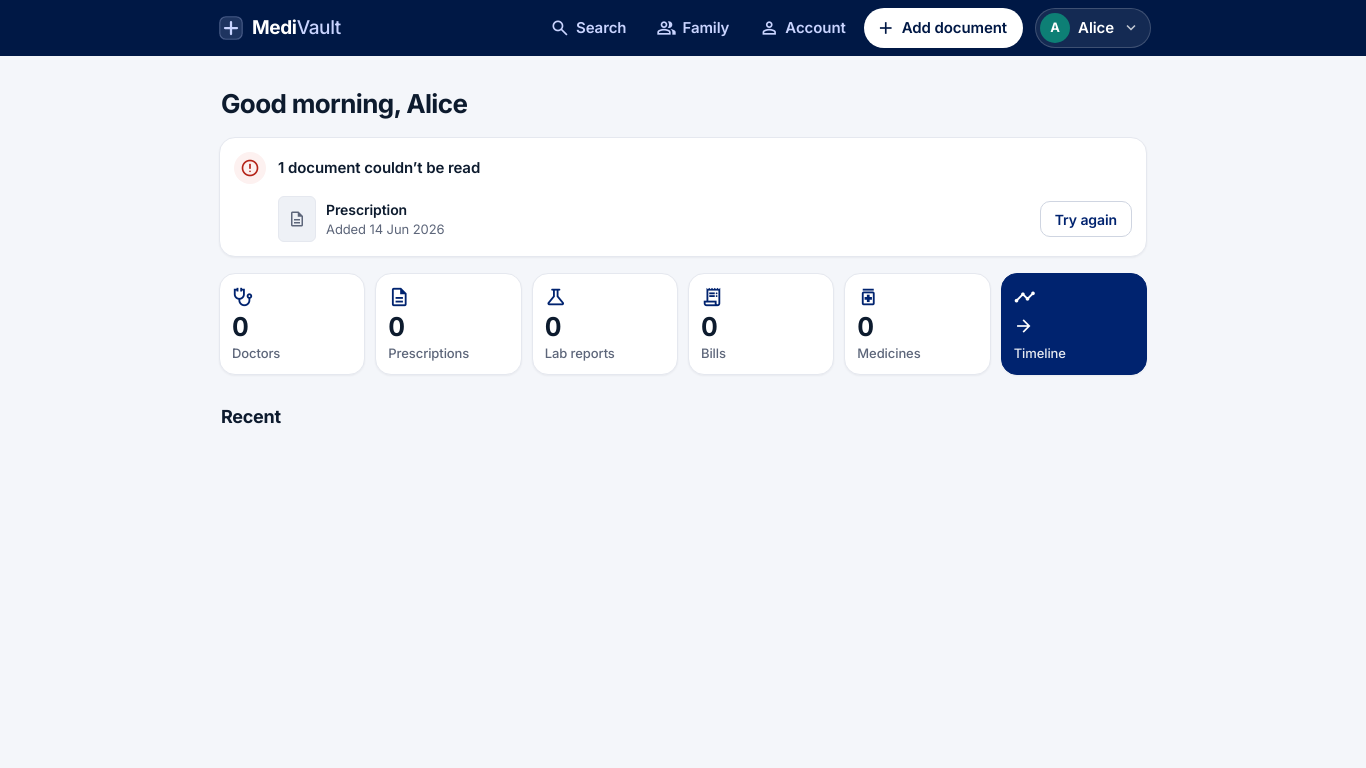
it: a failed record explains itself in plain language
Click the button "Prescription Added 14 Jun 2026".
click(297, 219)  # box [274, 192, 1034, 246]
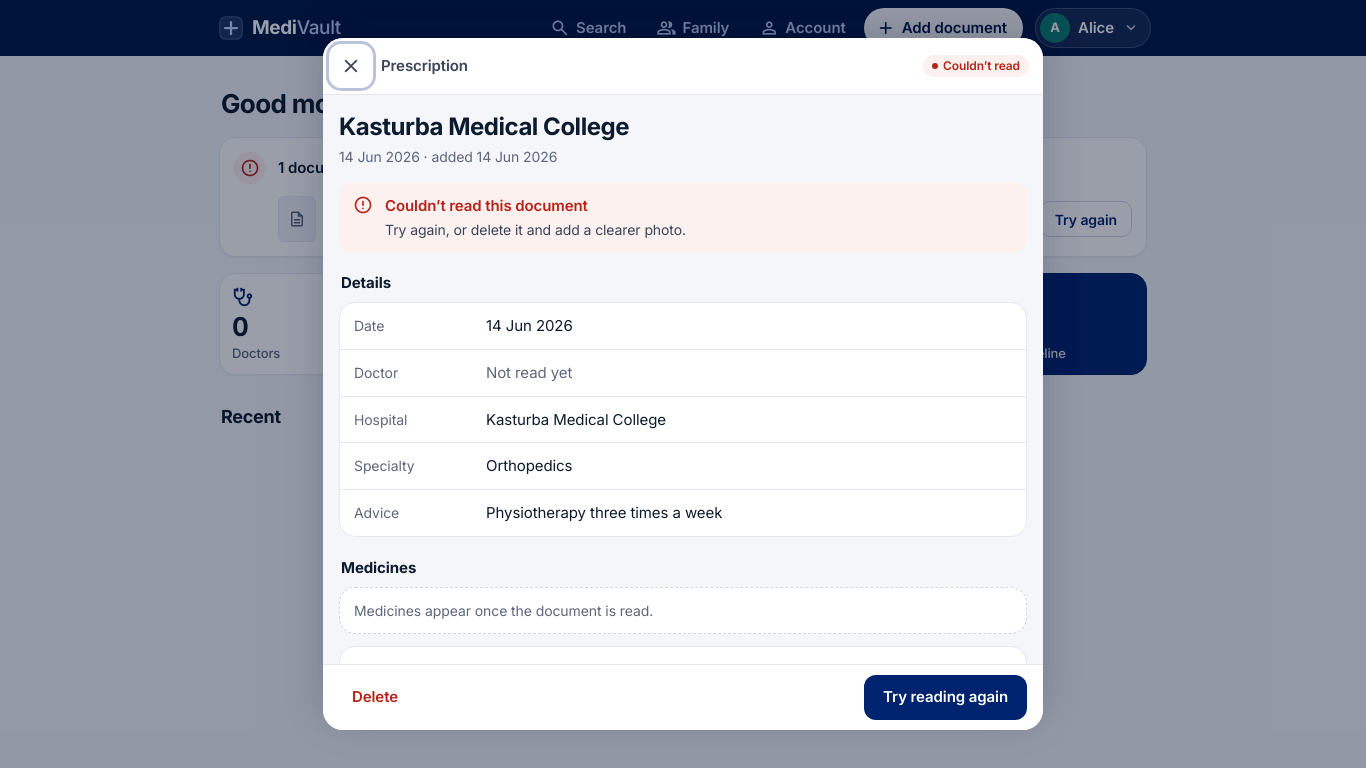
expect the text "Couldn’t read this document" is shown: met, box [385, 196, 588, 215]
expect the text "Couldn’t read" is shown: met, box [923, 55, 1029, 77]
expect the button "Try reading again" is shown: met, box [864, 675, 1027, 720]
